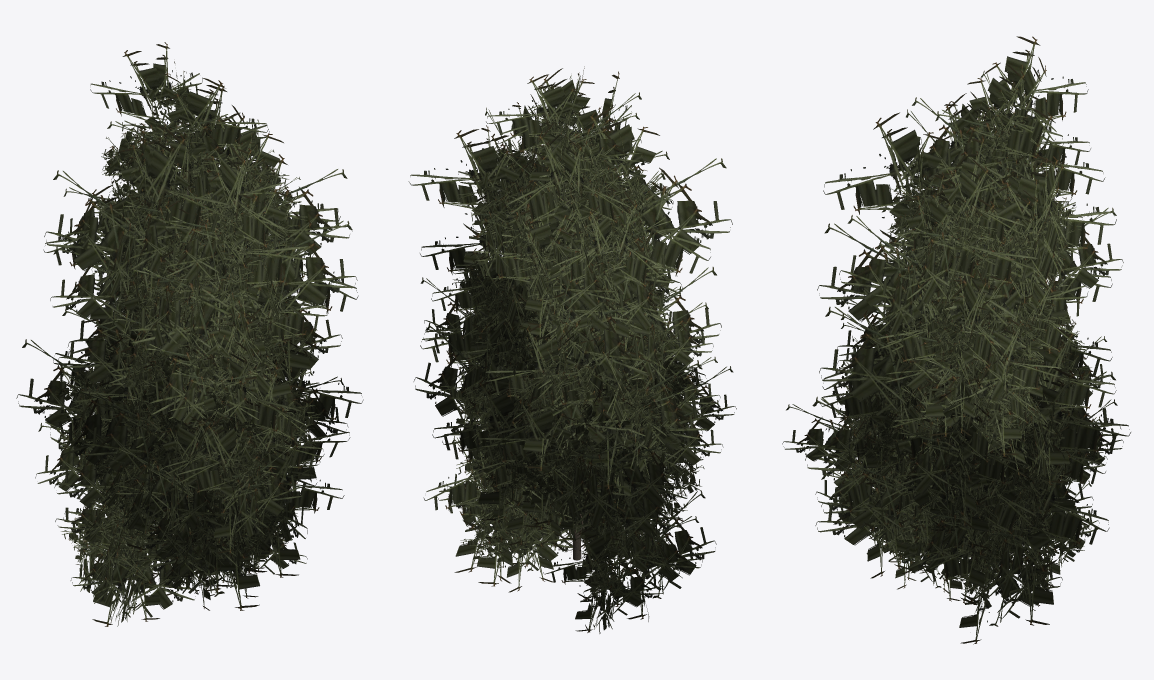
The model's file is pine_sapling_medium.glb.
3 renders of one model, left to right at view 1: azimuth 30°, elevation 25°; view 2: azimuth 150°, elevation 25°; view 3: azimuth 270°, elevation 25°, orthographic.
Parts seen in each view (by area): view 1: pine_sapling_medium_a_LOD0 (×2), pine_sapling_medium_b_LOD0 (×2), pine_sapling_medium_c_LOD0 (×2); view 2: pine_sapling_medium_a_LOD0 (×2), pine_sapling_medium_b_LOD0 (×2), pine_sapling_medium_c_LOD0 (×2); view 3: pine_sapling_medium_a_LOD0 (×2), pine_sapling_medium_b_LOD0 (×2), pine_sapling_medium_c_LOD0 (×2).
Part boxes in pixels (<box>): pine_sapling_medium_a_LOD0 (×2): <box>16,42,363,610</box>; pine_sapling_medium_b_LOD0 (×2): <box>48,172,344,626</box>; pine_sapling_medium_c_LOD0 (×2): <box>71,276,316,610</box>; pine_sapling_medium_a_LOD0 (×2): <box>408,66,732,583</box>; pine_sapling_medium_b_LOD0 (×2): <box>420,126,736,633</box>; pine_sapling_medium_c_LOD0 (×2): <box>460,287,675,585</box>; pine_sapling_medium_a_LOD0 (×2): <box>805,36,1130,625</box>; pine_sapling_medium_b_LOD0 (×2): <box>782,162,1123,644</box>; pine_sapling_medium_c_LOD0 (×2): <box>856,277,1079,601</box>.
Bounding box in the file's own units: 7.46 × 13.31 × 7.63.
Materials: 3 (3 with a texture image).
